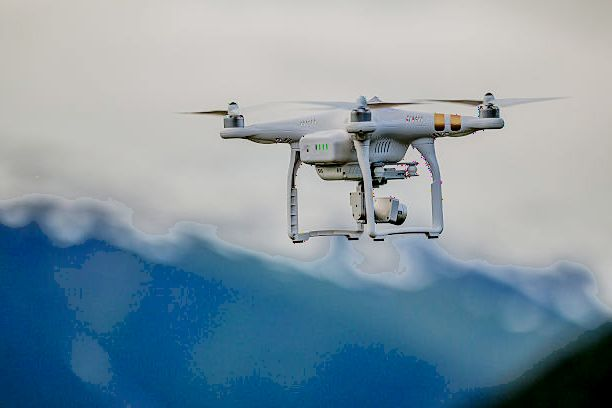Drone: (179, 89, 573, 249)
